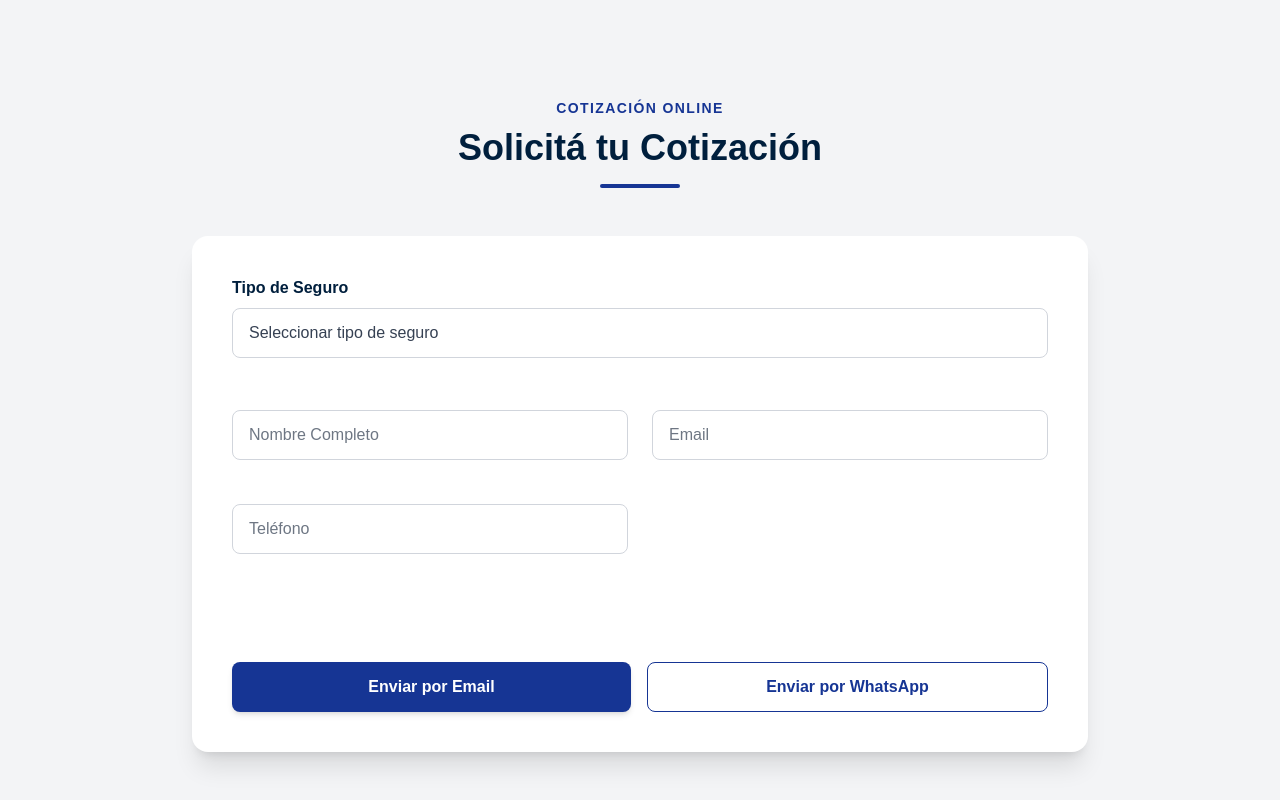
Test: Formulario de Cotización Completo › Validaciones de campos dinámicos según tipo de seguro › Validaciones para Seguro de Vida › No permite enviar si la edad es mayor a 90 en vida
Select "Vida" in the dropdown named "tipo de seguro" at (640, 333), box [232,308,1048,358]
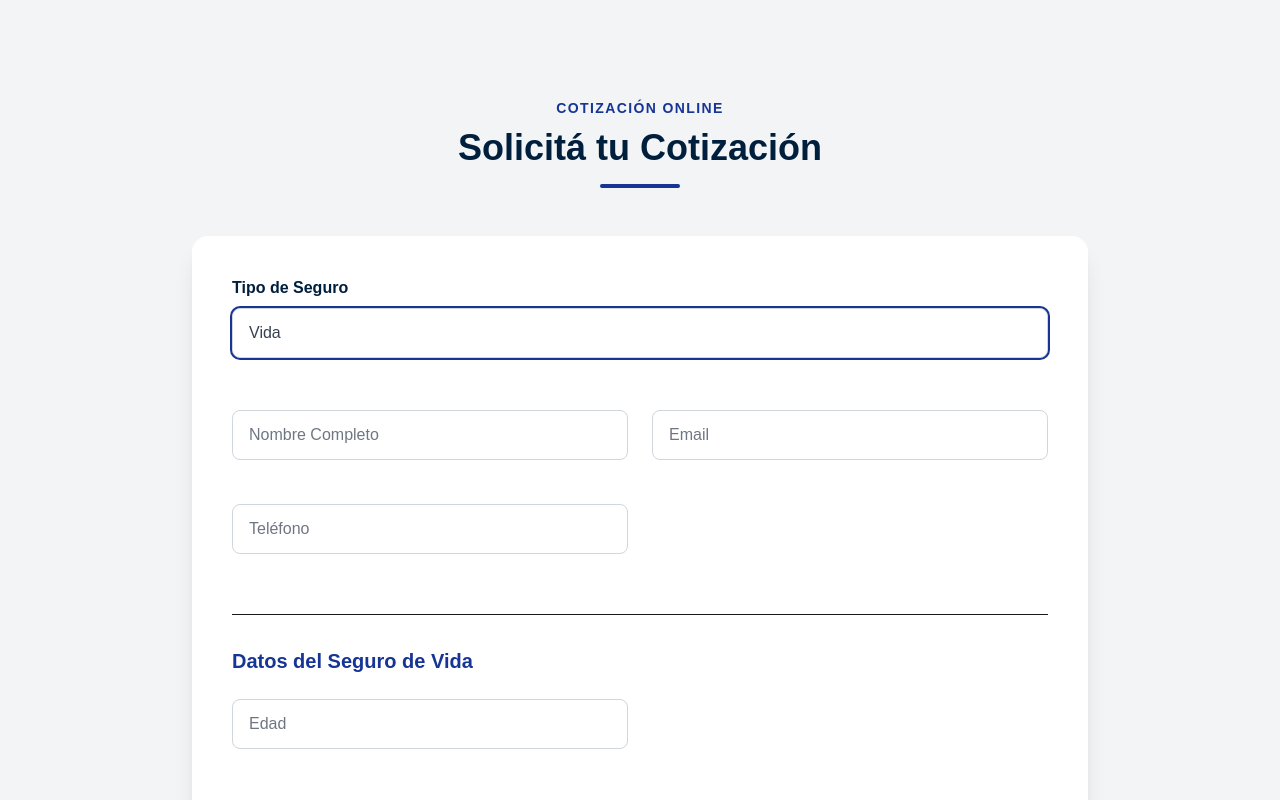
Type "Juan" into the field with placeholder "Nombre Completo" at (430, 435), box [232,410,628,460]
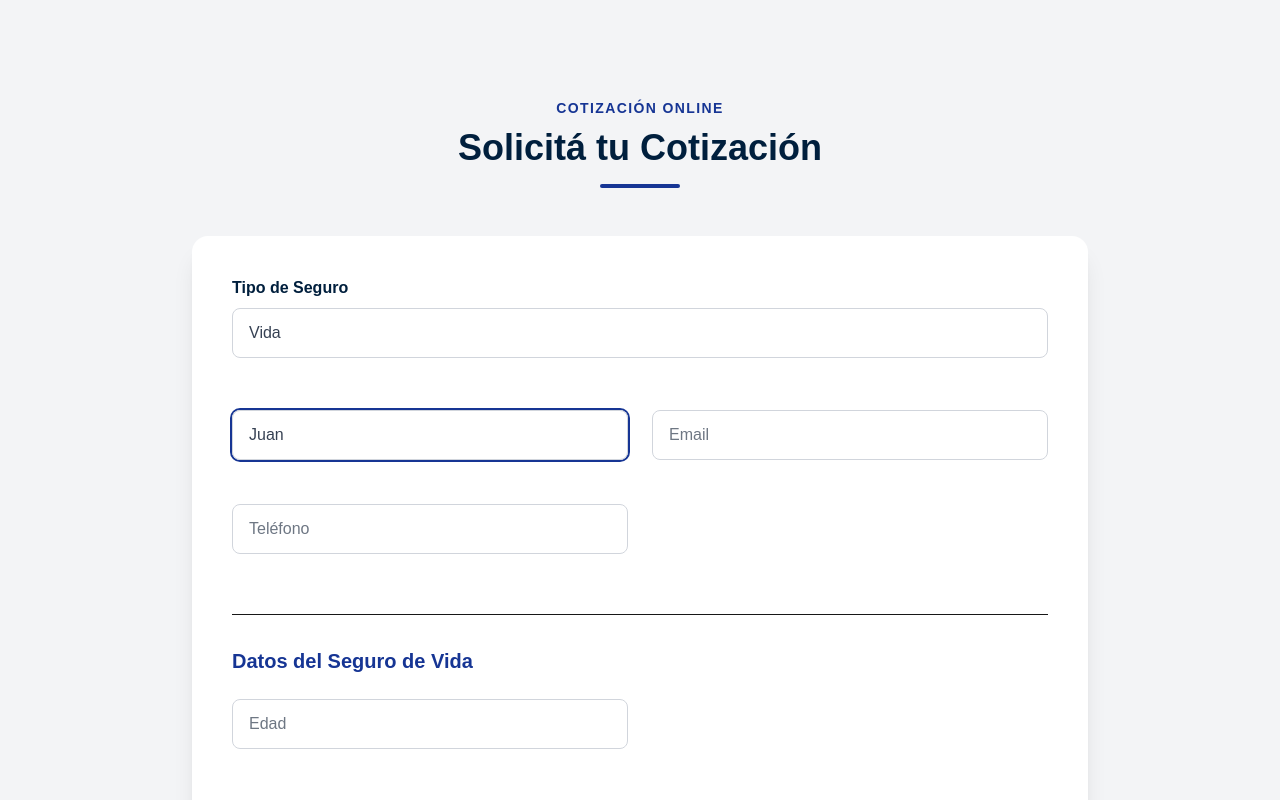
Type "juan@mail.com" into the field with placeholder "Email" at (850, 435), box [652,410,1048,460]
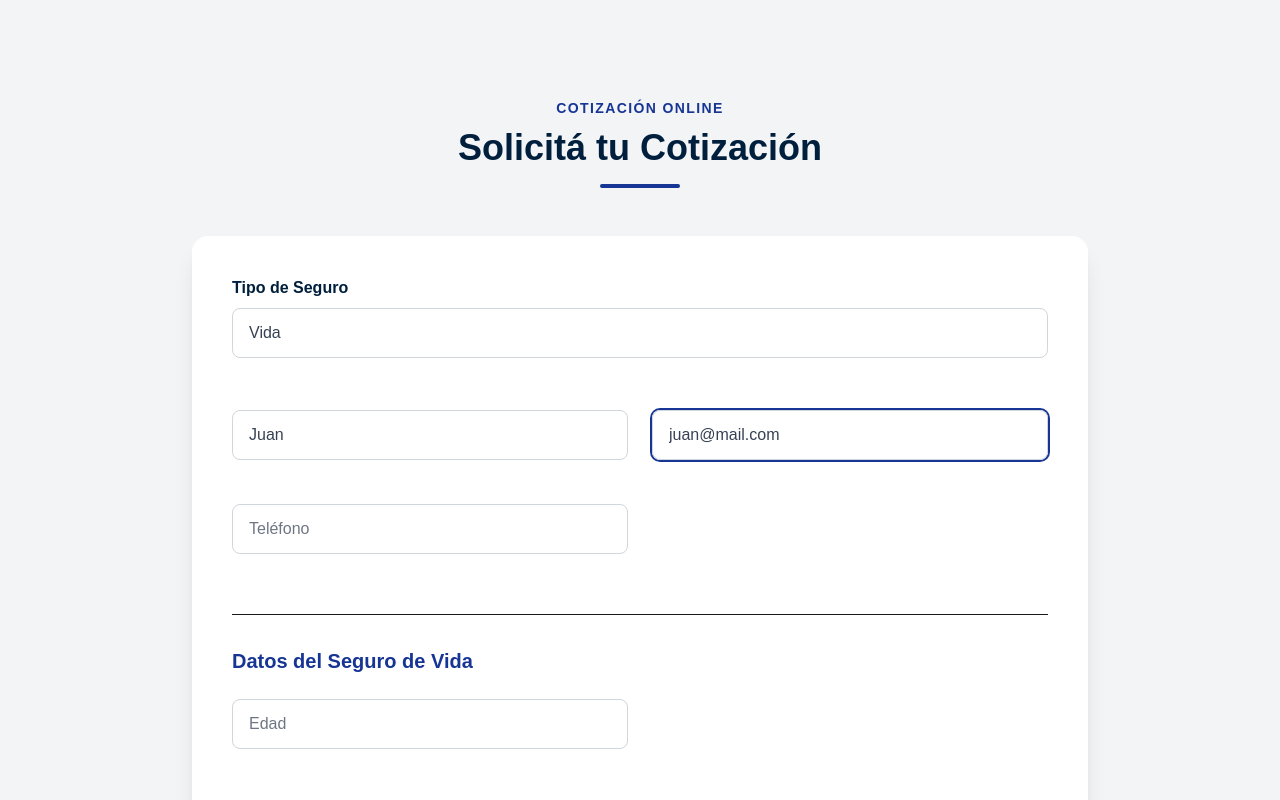
Type "12345678" into the number field with placeholder "Teléfono" at (430, 529), box [232,504,628,554]
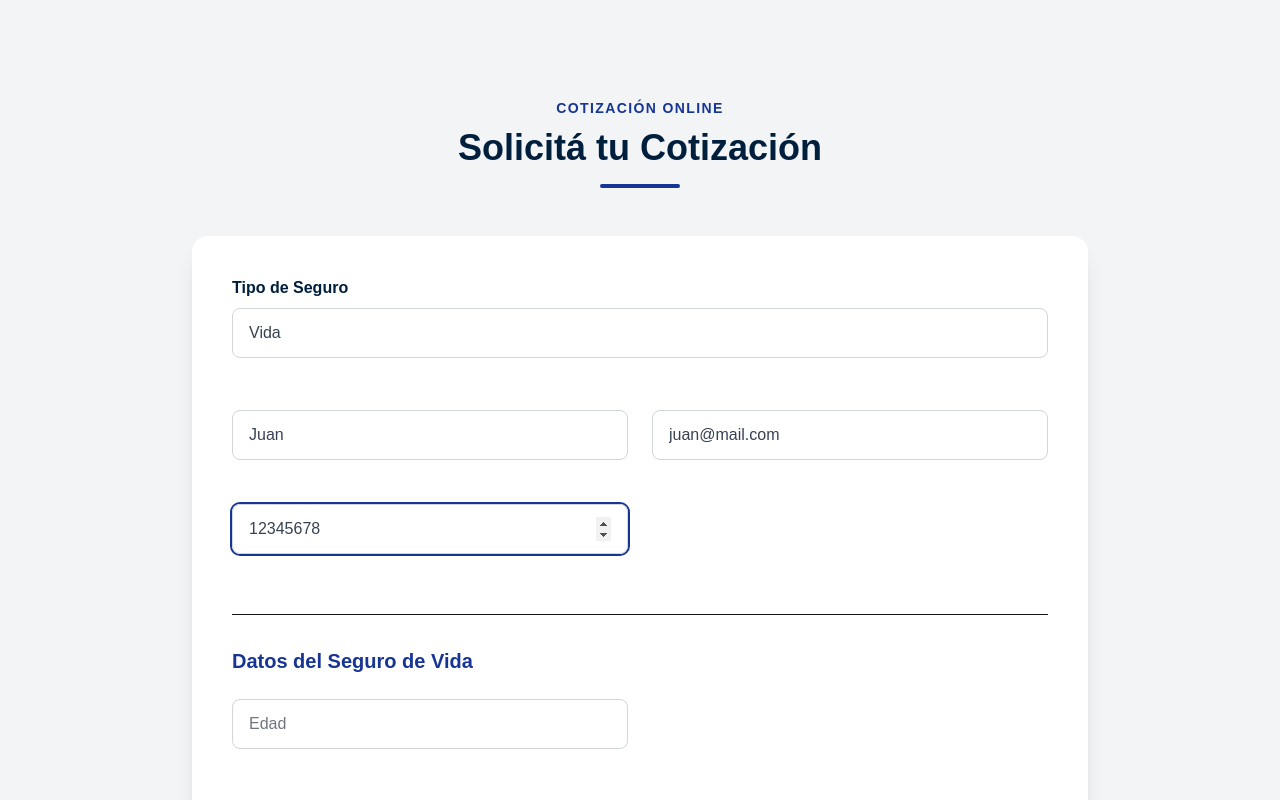
Type "95" into the number field with placeholder "Edad" at (430, 724), box [232,699,628,749]
(page scrolled)
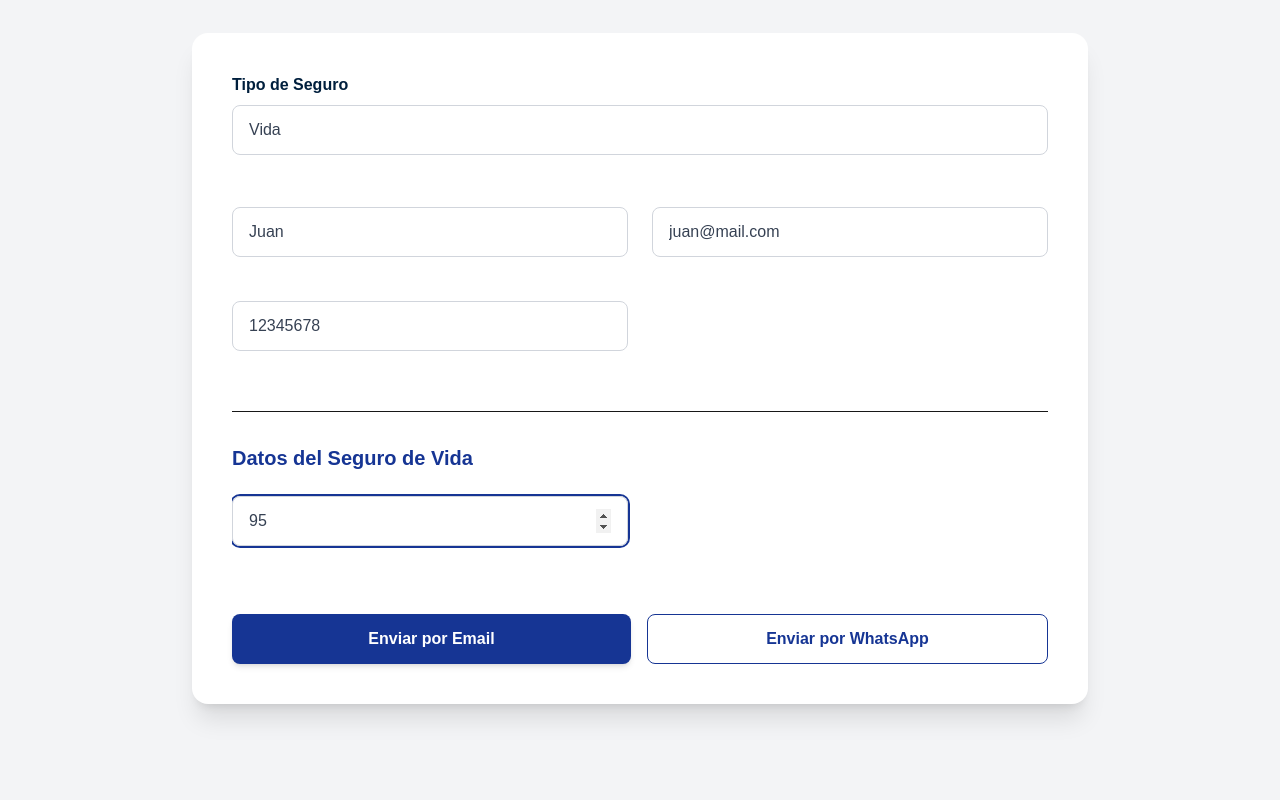
Click the button "Enviar por WhatsApp" at (848, 639), box [647,614,1048,664]
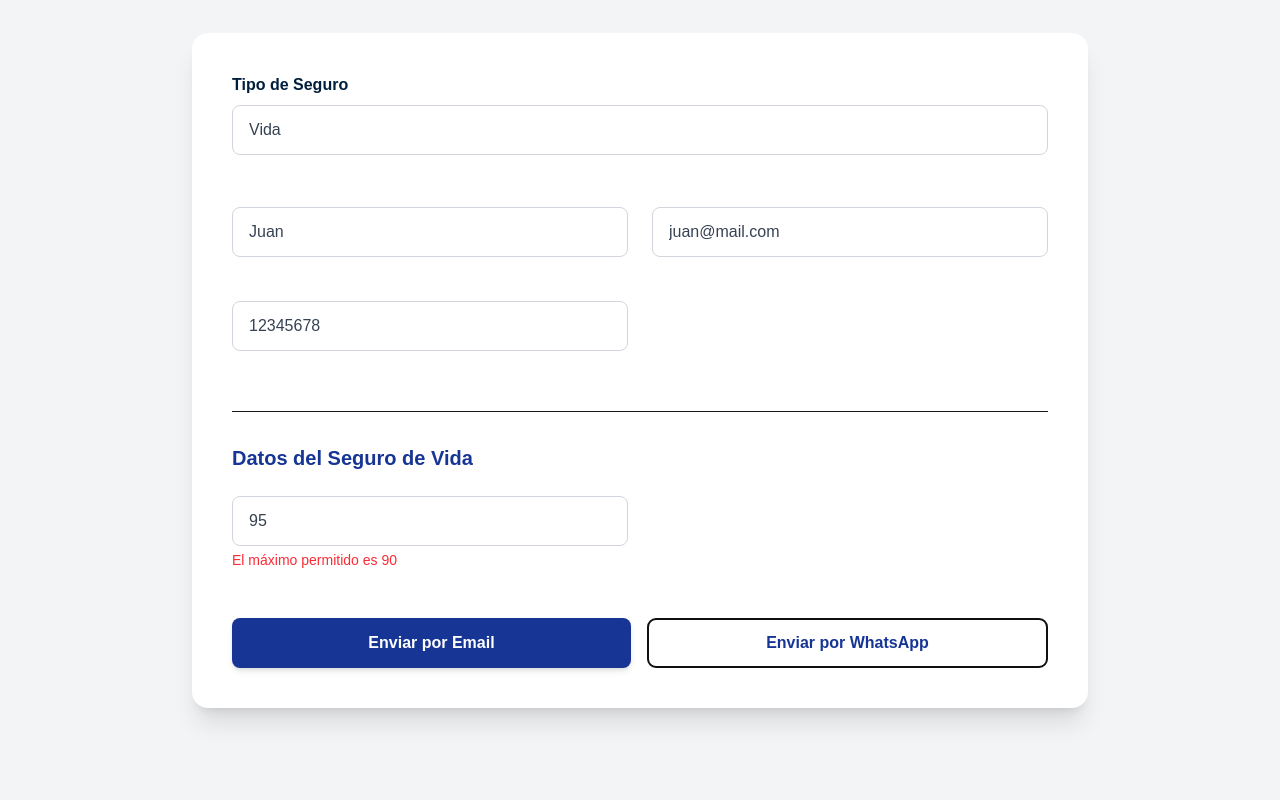
Now the text "El máximo permitido es 90" is shown, box [232,552,397,568]
